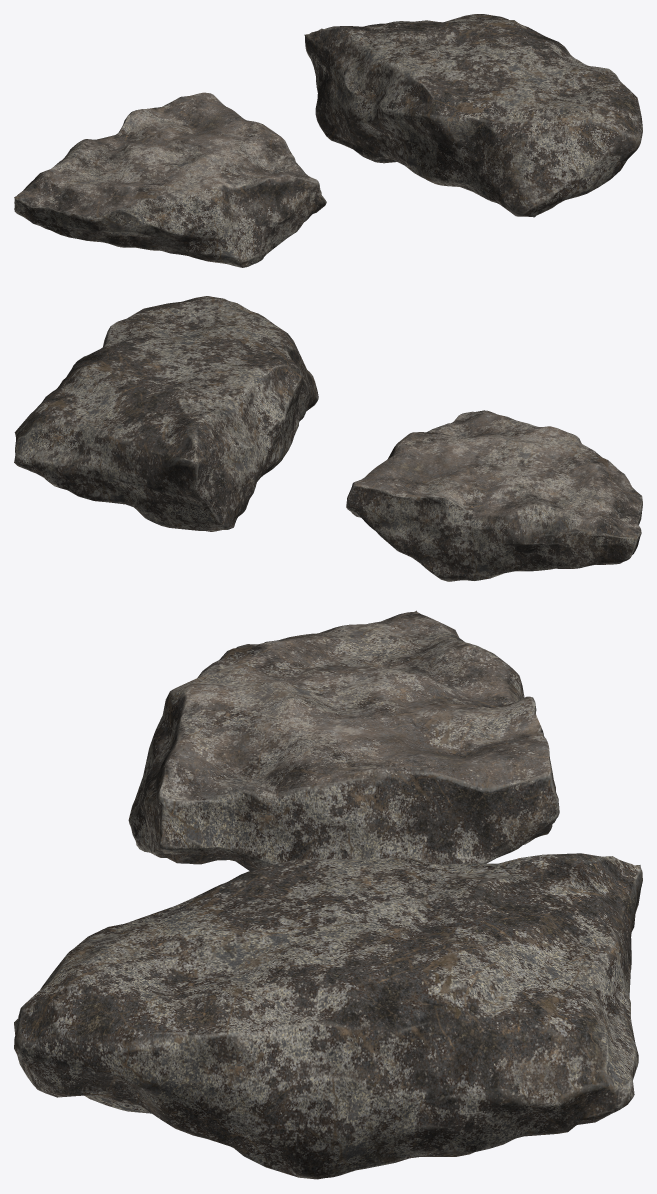
Rendered from rocks.glb.
3 renders of one model, top to bottom at view 1: azimuth 30°, elevation 25°; view 2: azimuth 150°, elevation 25°; view 3: azimuth 270°, elevation 25°, orthographic. The views are drawn at different scales.
Parts seen in each view (by area): view 1: Rock01, Rock02; view 2: Rock01, Rock02; view 3: Rock01, Rock02.
Boxes of the visible parts, <box> form: Rock01: <box>304,14,642,217</box>; Rock02: <box>14,92,326,267</box>; Rock01: <box>14,296,318,531</box>; Rock02: <box>346,410,642,581</box>; Rock01: <box>14,853,642,1179</box>; Rock02: <box>128,610,559,870</box>.
Bounding box in the file's own units: 28.18 × 5.62 × 15.32.
Materials: 2 (2 with a texture image).
